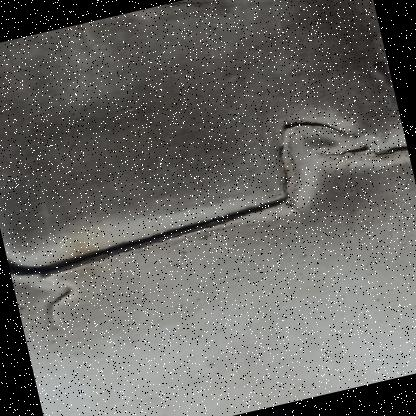Crack: (0, 45, 415, 349), (128, 0, 248, 33)
